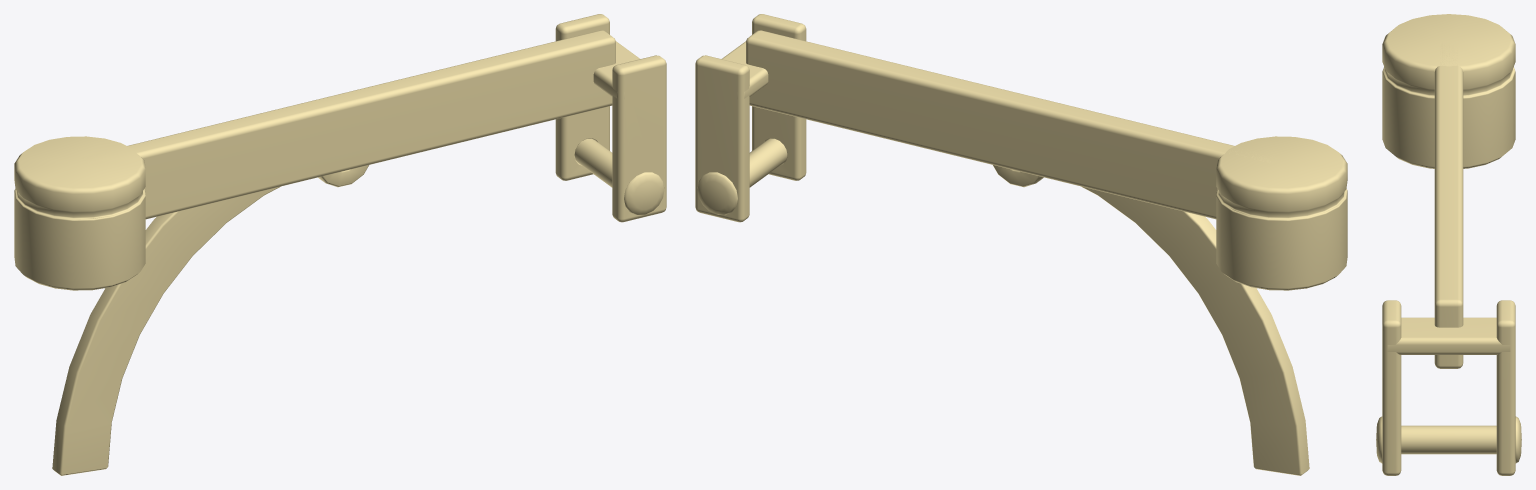
The picture shows the model from 3 angles, left to right: view 1: azimuth 30°, elevation 25°; view 2: azimuth 150°, elevation 25°; view 3: azimuth 270°, elevation 25°; orthographic projection.
Visible parts, largest first — view 1: Fixed / Polished pale brass, Yoke cheek, Yoke cheek.001; view 2: Fixed / Polished pale brass, Yoke cheek.001, Yoke cheek; view 3: Fixed / Polished pale brass, Yoke cheek, Yoke cheek.001.
Part boxes in pixels (<box>): Fixed / Polished pale brass: <box>14,30,664,475</box>; Yoke cheek: <box>612,55,666,222</box>; Yoke cheek.001: <box>555,14,609,180</box>; Fixed / Polished pale brass: <box>697,30,1347,475</box>; Yoke cheek.001: <box>695,55,749,222</box>; Yoke cheek: <box>752,14,806,180</box>; Fixed / Polished pale brass: <box>1376,14,1521,463</box>; Yoke cheek: <box>1382,300,1401,475</box>; Yoke cheek.001: <box>1496,300,1515,475</box>.
Bounding box in the file's own units: 0.075 × 0.0362 × 0.0153.
